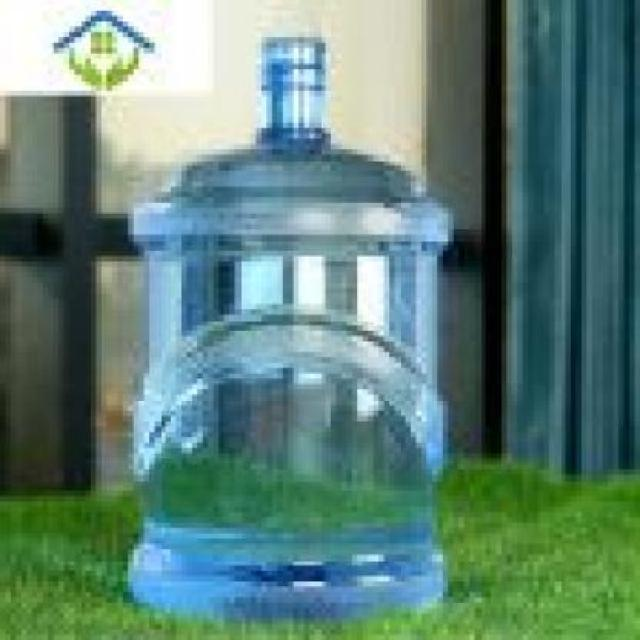coolerbottle: (119, 32, 462, 621)
